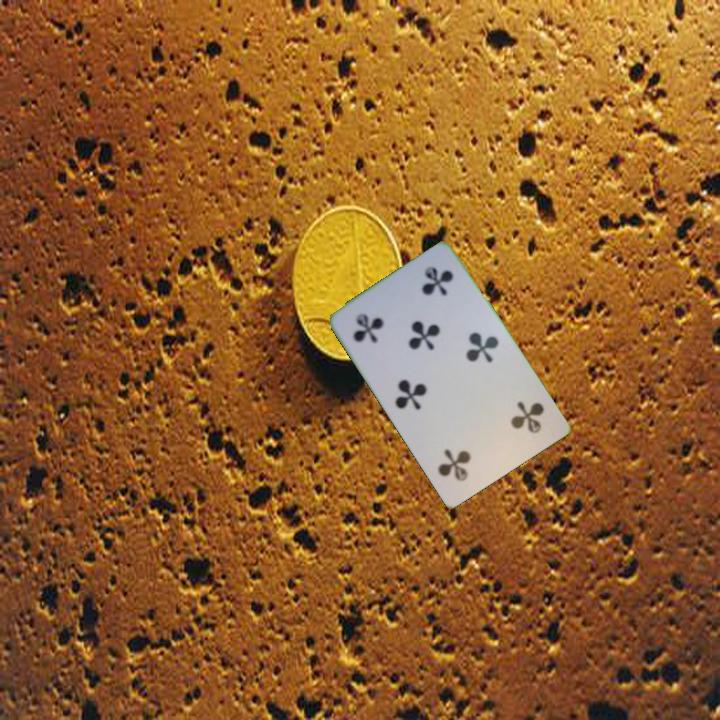c_7.png: (338, 284, 424, 367), (473, 380, 558, 463)
